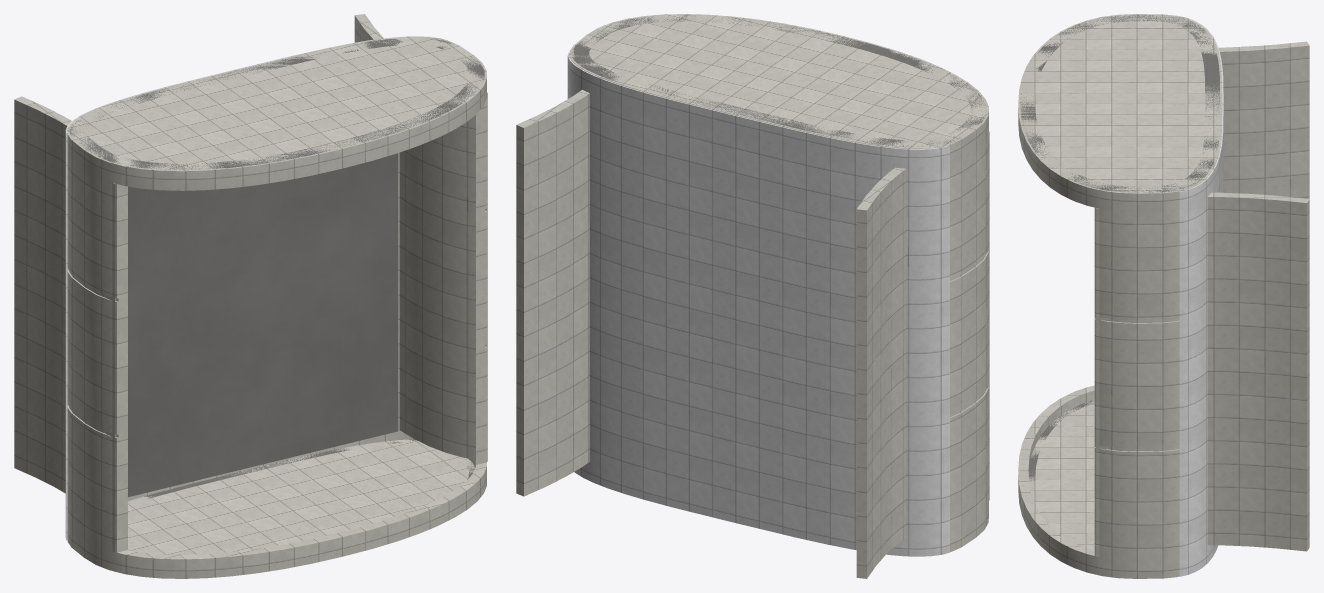
File: ax_aero_09_fs2c_cargo_bay_open.glb
The picture shows the model from 3 angles, left to right: view 1: azimuth 30°, elevation 25°; view 2: azimuth 150°, elevation 25°; view 3: azimuth 270°, elevation 25°; orthographic projection. The views are drawn at different scales.
Parts seen in each view (by area): view 1: fuselage, cargo_floor, door_l, door_r, end_frames, belly_tiles; view 2: belly_tiles, fuselage, door_l, door_r, end_frames; view 3: fuselage, door_l, door_r, belly_tiles, end_frames.
Part boxes in pixels (x1,y1,x2,y2): fuselage: (67, 36, 486, 578); cargo_floor: (128, 153, 398, 497); door_l: (354, 14, 487, 461); door_r: (14, 96, 115, 552); end_frames: (69, 38, 484, 498); belly_tiles: (65, 36, 447, 540); belly_tiles: (567, 52, 949, 556); fuselage: (569, 14, 988, 551); door_l: (516, 89, 589, 496); door_r: (856, 131, 989, 578); end_frames: (572, 15, 985, 147); fuselage: (1018, 14, 1222, 578); door_l: (1096, 192, 1309, 556); door_r: (1218, 41, 1309, 198); belly_tiles: (1179, 16, 1223, 576); end_frames: (1020, 15, 1220, 521).
Bounding box in the file's own units: 2.5 × 2.5 × 1.71.
3 materials, 3 textured.
